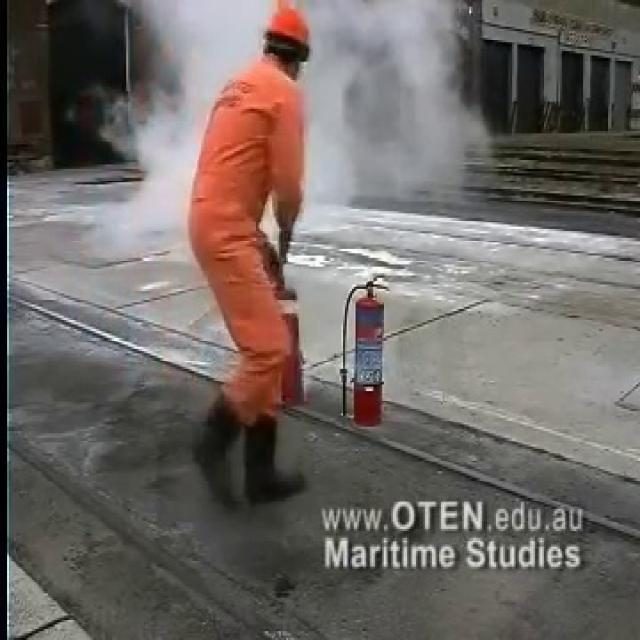Smoke: (50, 0, 530, 196)
